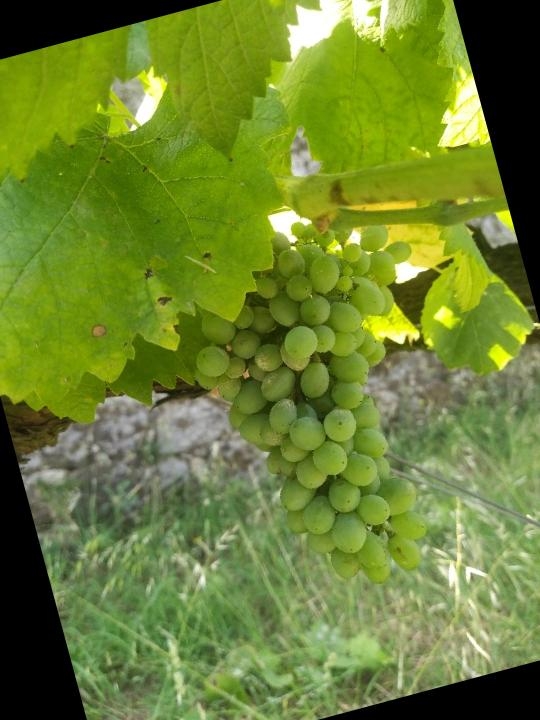grape: (162, 192, 501, 622)
